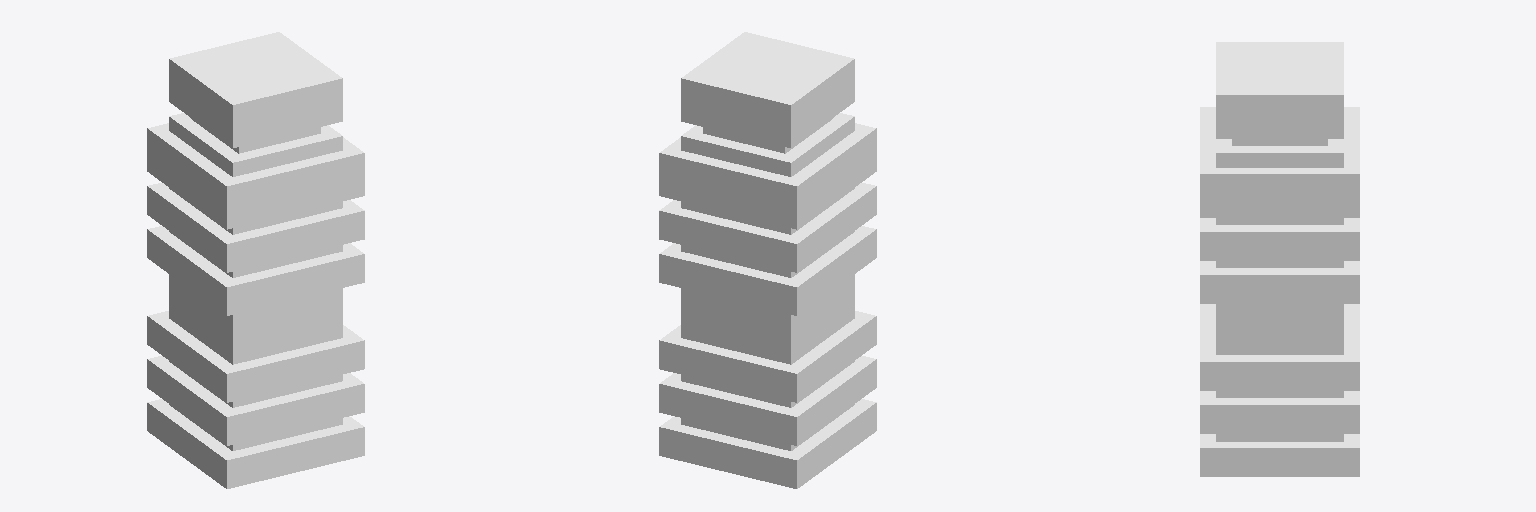
Rendered from bottler.obj.
3 views of the same model, side by side, from view 1: azimuth 30°, elevation 25°; view 2: azimuth 150°, elevation 25°; view 3: azimuth 270°, elevation 25° (orthographic).
Visible parts, largest first — view 1: object 1; view 2: object 1; view 3: object 1.
Boxes of the visible parts, x1=… form: object 1: x1=147, y1=32, x2=364, y2=488; object 1: x1=659, y1=32, x2=876, y2=488; object 1: x1=1200, y1=42, x2=1359, y2=476.
Size of the model in its own units: 1 by 2.6 by 1.